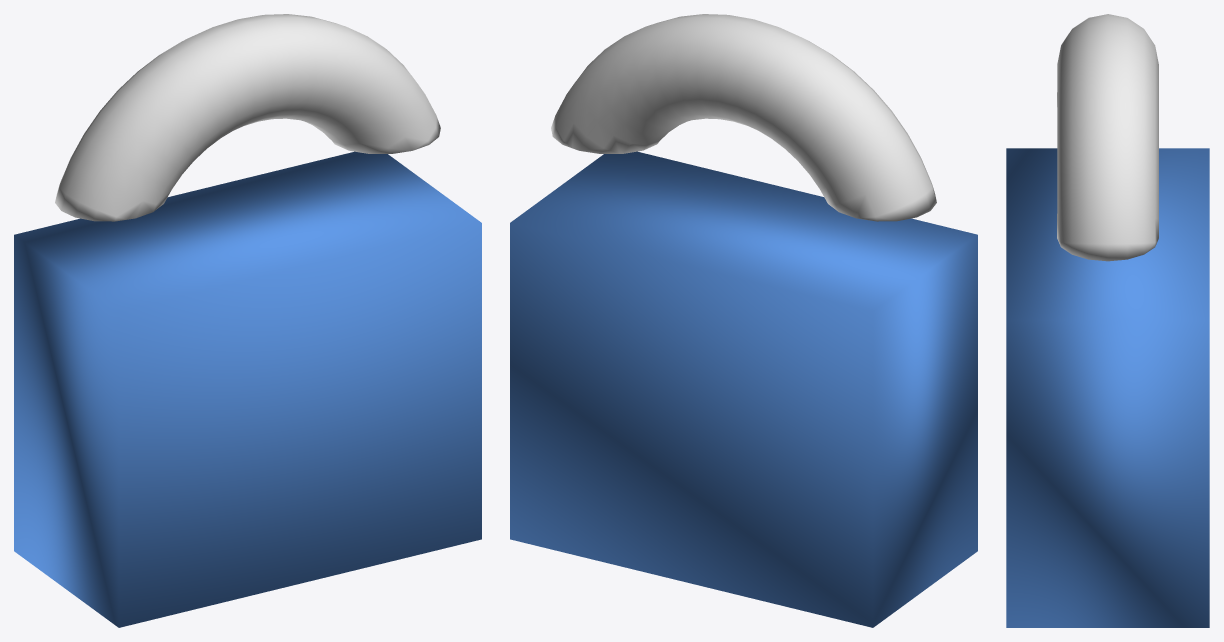
Rendered from malware_data_extraction.glb.
3 renders of one model, left to right at view 1: azimuth 30°, elevation 25°; view 2: azimuth 150°, elevation 25°; view 3: azimuth 270°, elevation 25°, orthographic. The views are drawn at different scales.
Parts seen in each view (by area): view 1: Cube; view 2: Cube; view 3: Cube.
Boxes of the visible parts, x1,y1,x2,y2 form: Cube: (14,14,481,627); Cube: (510,14,977,627); Cube: (1006,14,1209,627).
Bounding box in the file's own units: 1.23 × 1.65 × 0.6.
